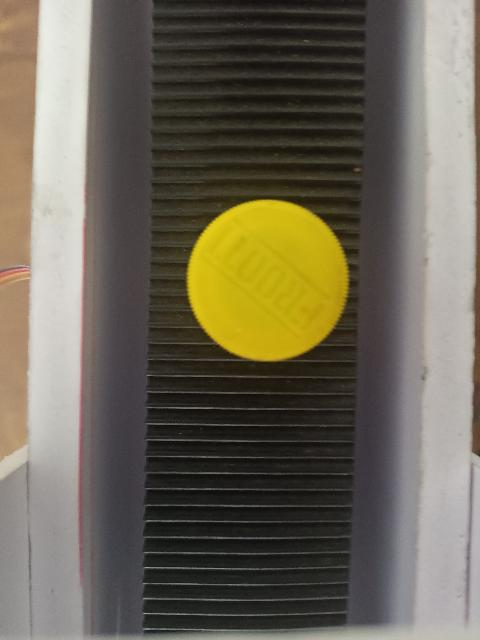bottlecap: (188, 199, 352, 359)
